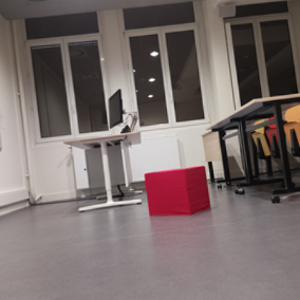medium: (143, 166, 212, 217)
